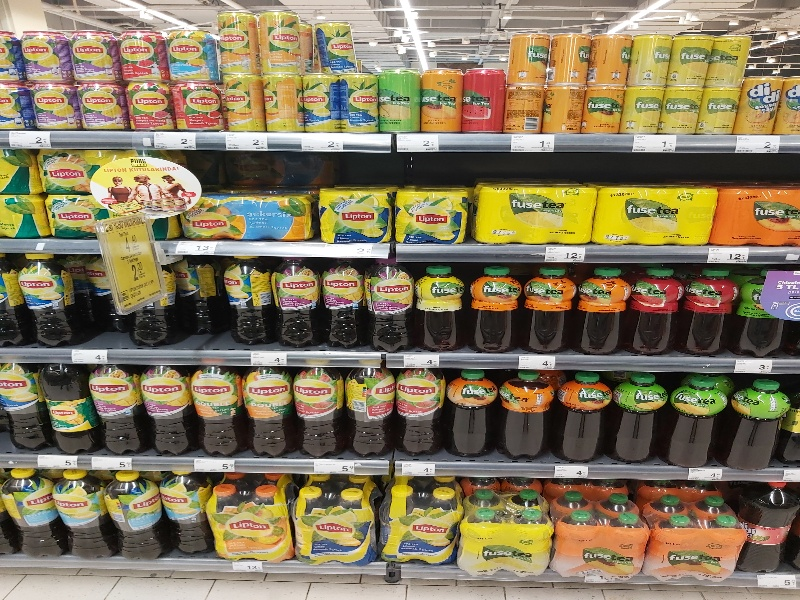urun1: (594, 176, 719, 244), (466, 181, 595, 242), (205, 477, 290, 566), (710, 181, 800, 246), (15, 245, 72, 345), (267, 251, 319, 347), (415, 255, 467, 351), (467, 260, 519, 356), (520, 262, 572, 358), (632, 262, 684, 358), (735, 260, 787, 356), (42, 356, 94, 452), (89, 358, 141, 454), (138, 353, 190, 449), (186, 356, 238, 452), (293, 360, 345, 456), (501, 364, 553, 460), (554, 362, 606, 458), (676, 371, 728, 467), (1, 461, 53, 555), (107, 463, 159, 557), (154, 466, 206, 560), (320, 184, 397, 244), (393, 181, 470, 241), (223, 253, 269, 346), (1, 354, 42, 455), (253, 5, 305, 77), (116, 19, 165, 84), (505, 23, 552, 87), (336, 71, 383, 133), (548, 22, 591, 87), (708, 24, 753, 85), (260, 76, 308, 132), (27, 82, 78, 132), (79, 82, 130, 132), (125, 81, 176, 131), (172, 83, 223, 133), (503, 81, 548, 136), (582, 85, 626, 137), (624, 86, 668, 138), (661, 85, 704, 136)
urun2: (652, 489, 739, 582), (290, 473, 374, 562), (376, 479, 460, 568), (465, 491, 549, 580), (559, 493, 643, 582), (178, 182, 313, 237), (729, 370, 790, 466), (740, 480, 800, 575), (315, 254, 367, 350), (359, 255, 411, 351), (577, 259, 629, 355), (685, 262, 737, 358), (240, 359, 292, 455), (346, 365, 398, 461), (392, 359, 444, 455), (444, 358, 496, 454), (612, 371, 664, 467), (54, 462, 106, 556), (207, 7, 259, 79), (378, 62, 423, 135), (418, 59, 463, 132), (459, 61, 504, 134), (20, 23, 69, 88), (70, 20, 119, 85), (162, 20, 211, 85), (739, 70, 783, 135), (297, 75, 344, 135), (628, 28, 675, 88), (217, 77, 267, 133), (668, 26, 713, 87), (312, 16, 358, 74), (585, 27, 630, 85), (543, 83, 587, 135), (698, 86, 741, 137)
